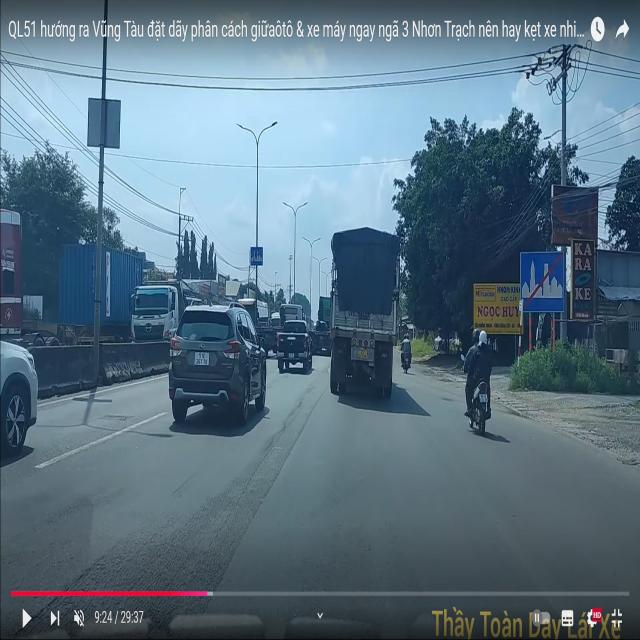Bien hieu lenh het khu dong dan cu: (519, 247, 570, 318)
